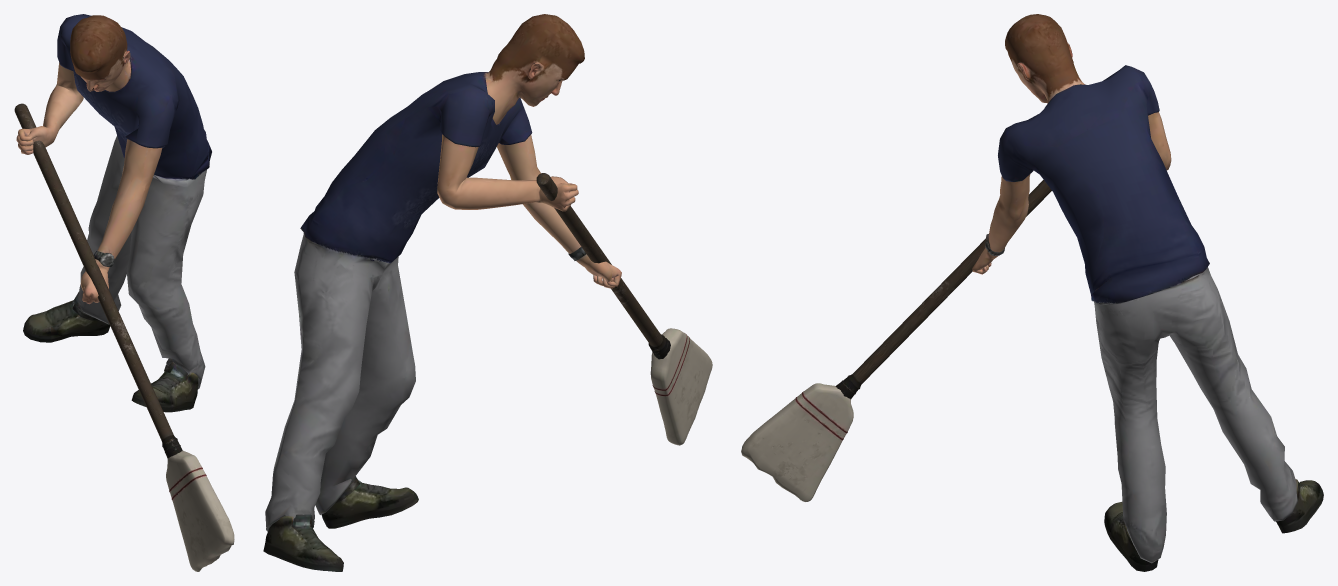
The picture shows the model from 3 angles, left to right: view 1: azimuth 30°, elevation 25°; view 2: azimuth 150°, elevation 25°; view 3: azimuth 270°, elevation 25°; orthographic projection. The views are drawn at different scales.
Visible parts, largest first — view 1: workv1_w008, workv1_w008_props; view 2: workv1_w008, workv1_w008_props; view 3: workv1_w008, workv1_w008_props.
Part boxes in pixels (bbox=[...]): workv1_w008: bbox=[16, 14, 211, 412]; workv1_w008_props: bbox=[14, 103, 234, 571]; workv1_w008: bbox=[263, 14, 621, 571]; workv1_w008_props: bbox=[536, 173, 712, 445]; workv1_w008: bbox=[972, 14, 1323, 571]; workv1_w008_props: bbox=[741, 180, 1051, 501].
Size of the model in its own units: 0.7795 by 1.64 by 1.77.
2 materials, 2 textured.
